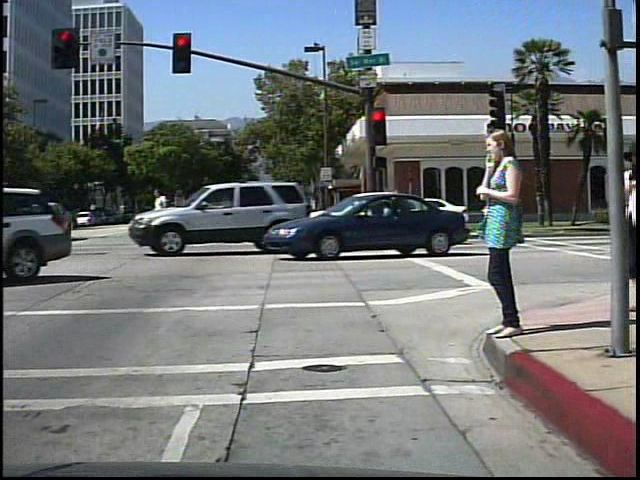person: (472, 119, 530, 343)
